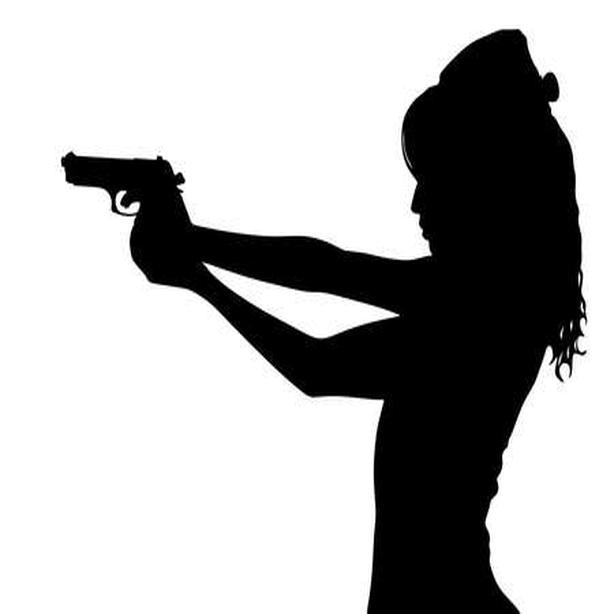Firearm: (62, 137, 226, 298)
